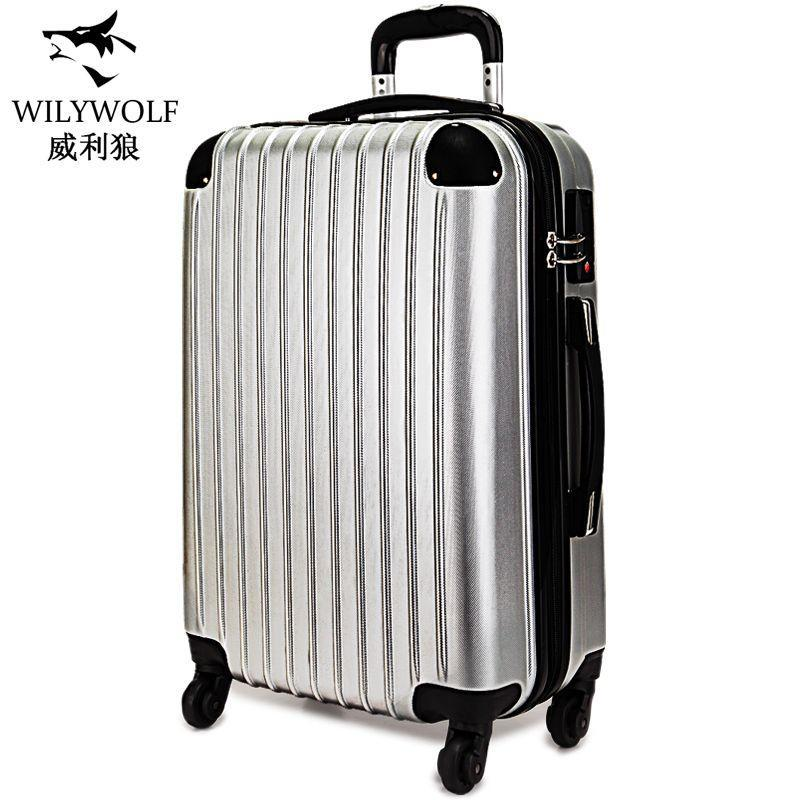suitcase: (178, 0, 612, 799)
